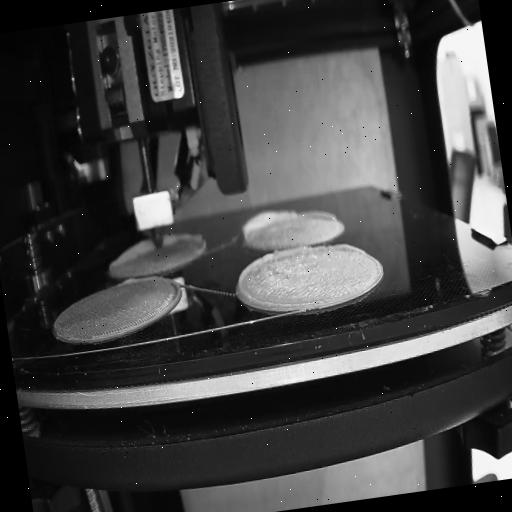over_extrusion: (234, 244, 318, 319), (234, 204, 304, 242), (106, 236, 158, 270), (164, 226, 206, 248), (302, 203, 337, 229), (331, 238, 367, 262), (118, 273, 144, 289)
